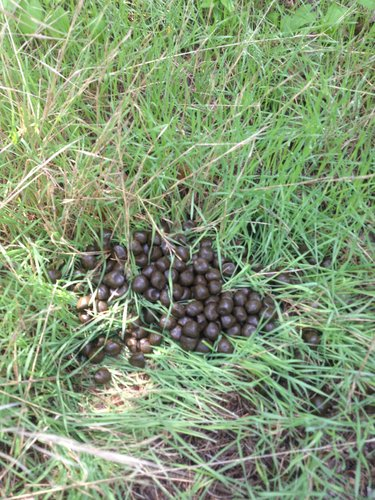Elk: (87, 242, 266, 337)
